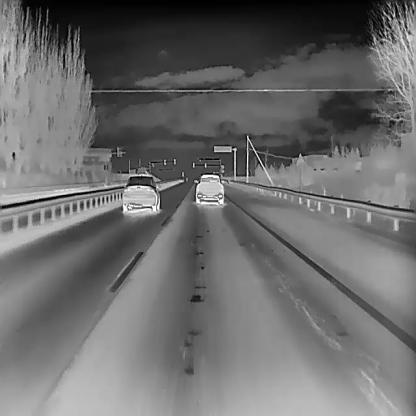car: (121, 173, 161, 211), (193, 172, 225, 204), (136, 167, 150, 179)
